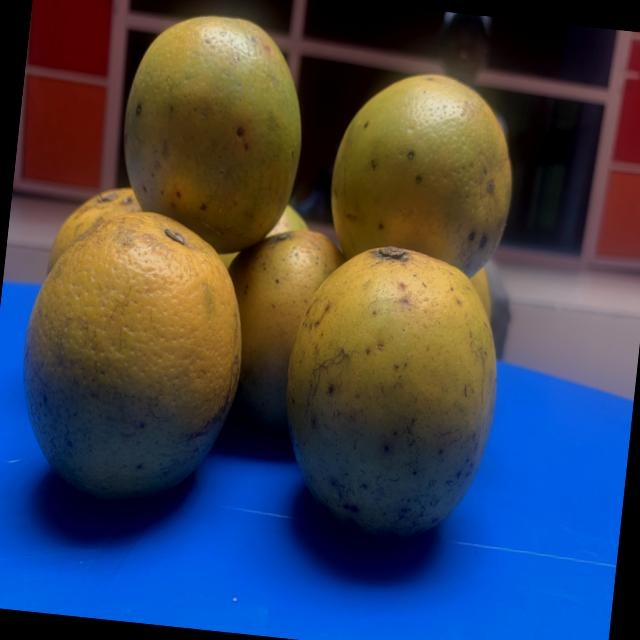agrume: (262, 229, 509, 555), (0, 210, 253, 526), (106, 8, 317, 257), (311, 53, 532, 274)
